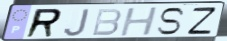B: (90, 8, 123, 37)
H: (118, 6, 160, 38)
J: (62, 8, 92, 38)
R: (24, 7, 65, 39)
S: (155, 6, 187, 36)
Z: (186, 6, 219, 36)
